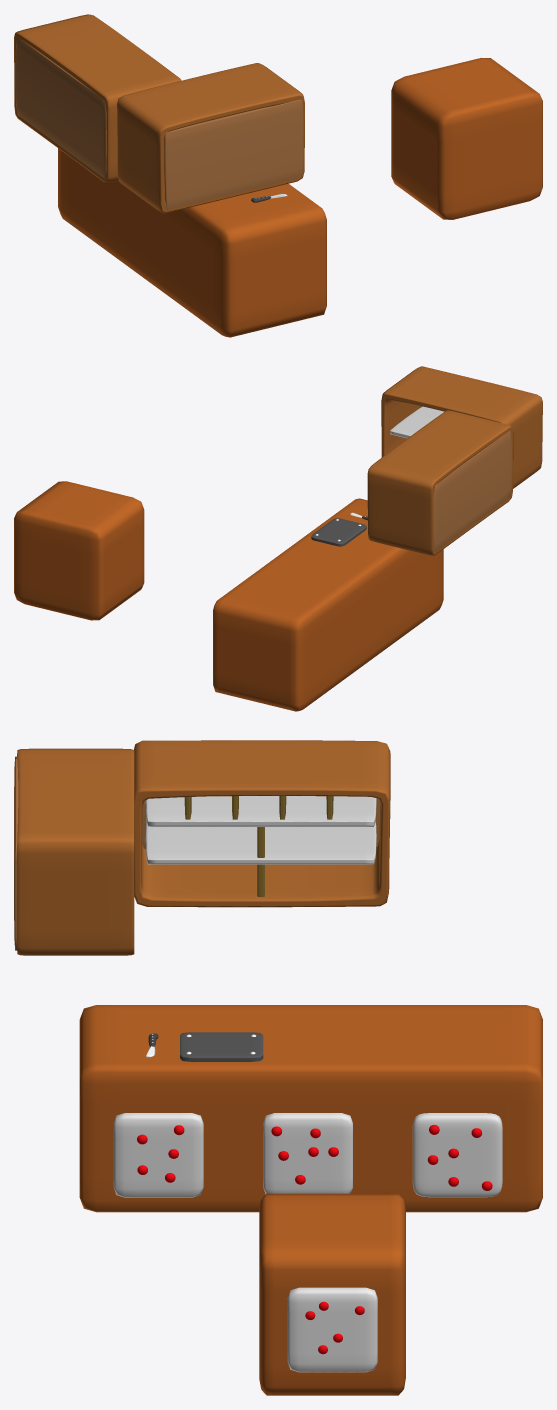
Rendered from top_raf.fbx.
3 renders of one model, top to bottom at view 1: azimuth 30°, elevation 25°; view 2: azimuth 150°, elevation 25°; view 3: azimuth 270°, elevation 25°, orthographic. The views are drawn at different scales.
Visible parts, largest first — view 1: pCube60, polySurface1, pCube52, pCube59, pCube54, pCube65; view 2: pCube60, polySurface1, pCube54, pCube52, pCube65, pCube69, pCube64; view 3: pCube60, pCube54, pCube52, polySurface1, pCube66, polySurface2, pCube63, pCube57, pCube56, pCube58, pCube69.
Boxes of the visible parts, left/top/right/bottom form: pCube60: left=58, top=148, right=326, bottom=337; polySurface1: left=391, top=57, right=542, bottom=219; pCube52: left=117, top=63, right=304, bottom=213; pCube59: left=164, top=99, right=303, bottom=209; pCube54: left=14, top=14, right=181, bottom=182; pCube65: left=15, top=37, right=106, bottom=178; pCube60: left=213, top=498, right=443, bottom=711; polySurface1: left=14, top=481, right=144, bottom=620; pCube54: left=367, top=410, right=513, bottom=555; pCube52: left=381, top=366, right=542, bottom=488; pCube65: left=433, top=431, right=512, bottom=551; pCube69: left=311, top=518, right=366, bottom=546; pCube64: left=390, top=406, right=444, bottom=438; pCube60: left=79, top=1005, right=542, bottom=1212; pCube54: left=134, top=740, right=390, bottom=907; pCube52: left=17, top=748, right=134, bottom=955; polySurface1: left=259, top=1193, right=405, bottom=1395; pCube66: left=145, top=821, right=376, bottom=864; polySurface2: left=287, top=1287, right=377, bottom=1372; pCube63: left=113, top=1113, right=203, bottom=1197; pCube57: left=412, top=1113, right=502, bottom=1197; pCube56: left=263, top=1113, right=352, bottom=1194; pCube58: left=145, top=796, right=376, bottom=826; pCube69: left=180, top=1032, right=263, bottom=1061.
Size of the model in its own units: 853 by 419 by 585.
